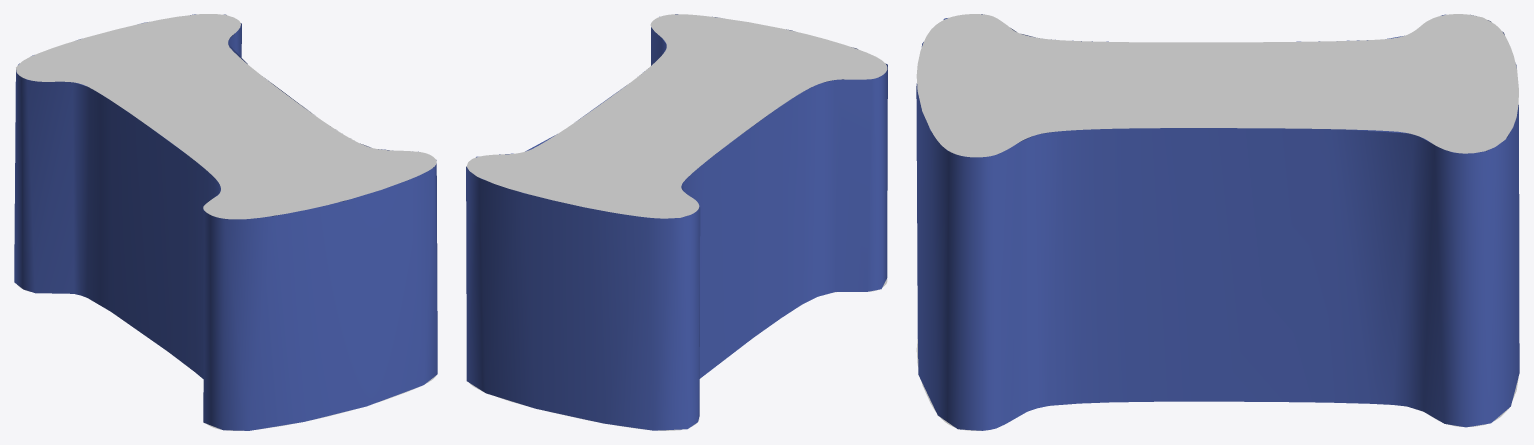
3 renders of one model, left to right at view 1: azimuth 30°, elevation 25°; view 2: azimuth 150°, elevation 25°; view 3: azimuth 270°, elevation 25°, orthographic. The views are drawn at different scales.
Visible parts, largest first — view 1: I; view 2: I; view 3: I.
Boxes of the visible parts, x1,y1,x2,y2 form: I: [14, 14, 437, 430]; I: [466, 14, 887, 430]; I: [916, 14, 1519, 430].
Bounding box in the file's own units: 0.8301 × 0.736 × 1.47.
